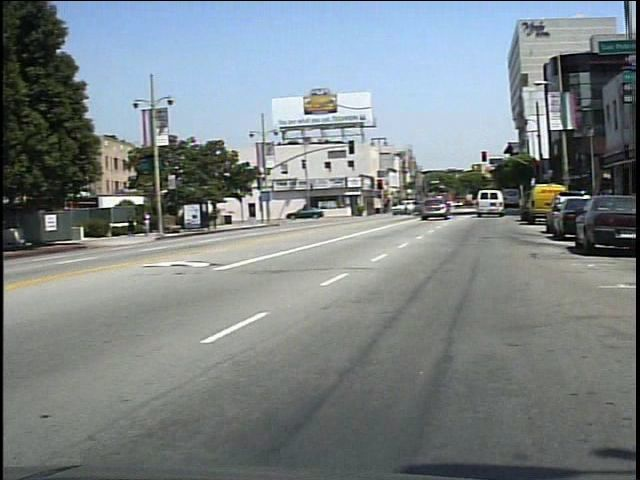person: (147, 207, 163, 238), (305, 193, 320, 221), (131, 212, 145, 239)
